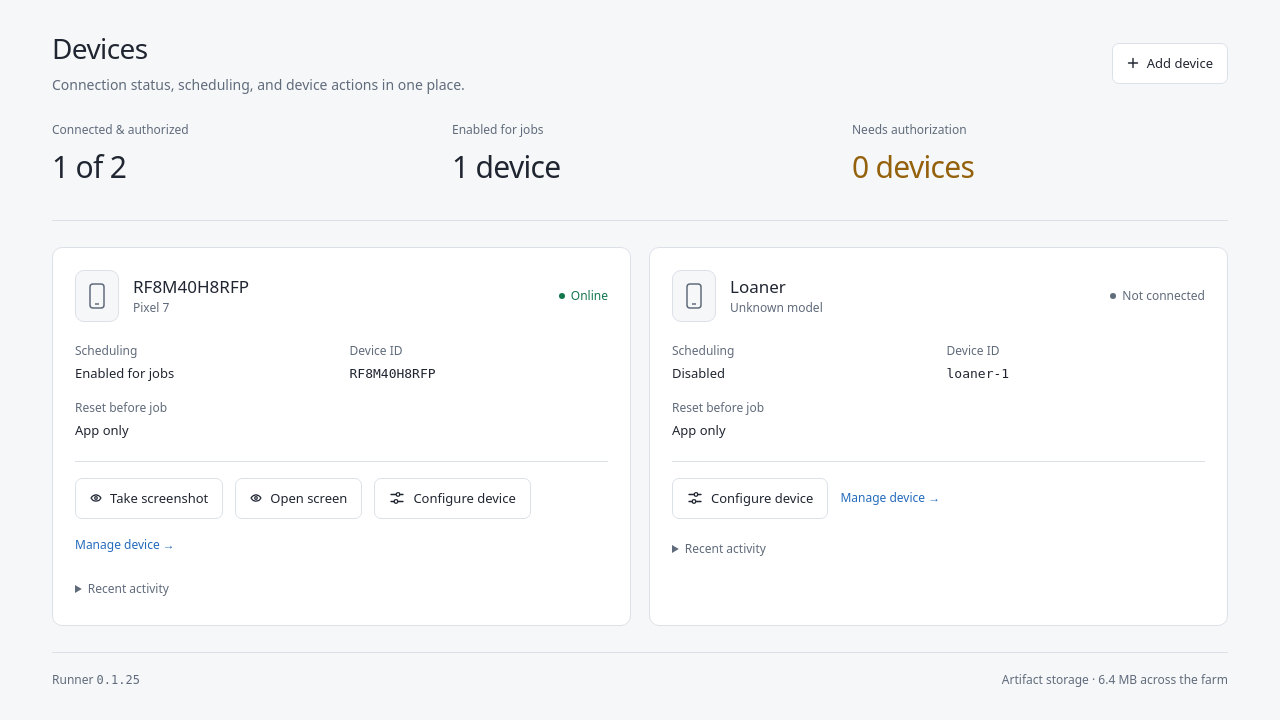
Test: a failed enable shows the server's error instead of silently doing nothing
Check: the heading "Loaner" is shown, box [730,275,786,298]
Click the heading "Manage device →" below "Open screen" at (125, 545), box [75,531,175,559]
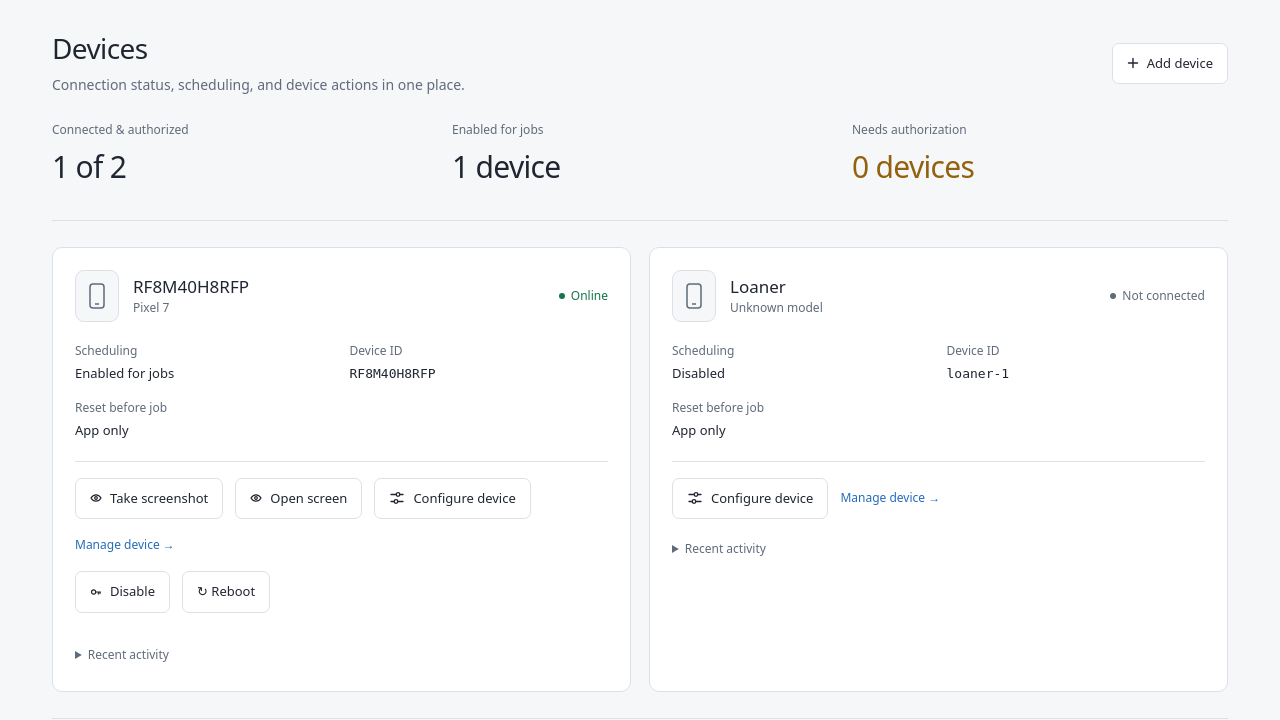
Click the heading "Manage device →" below "Disabled" at (890, 498), box [840,484,940,512]
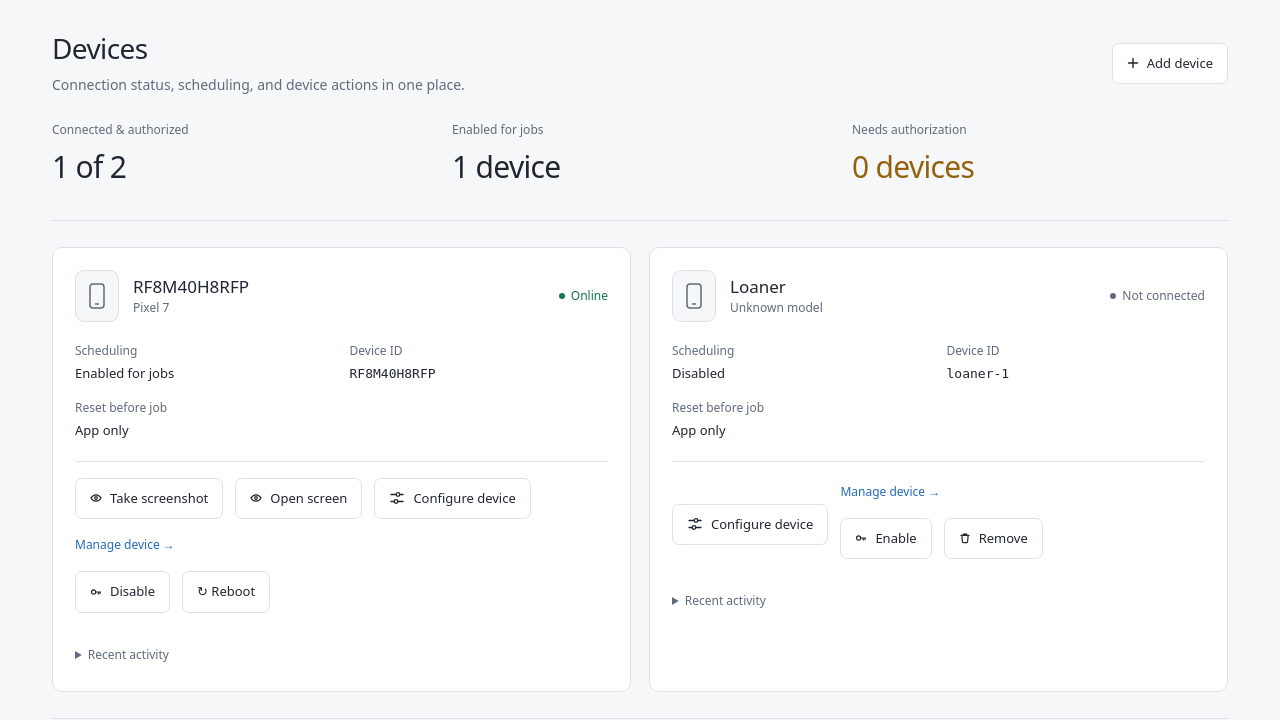
Click the button "Enable" at (886, 538), box [840,518,932,559]
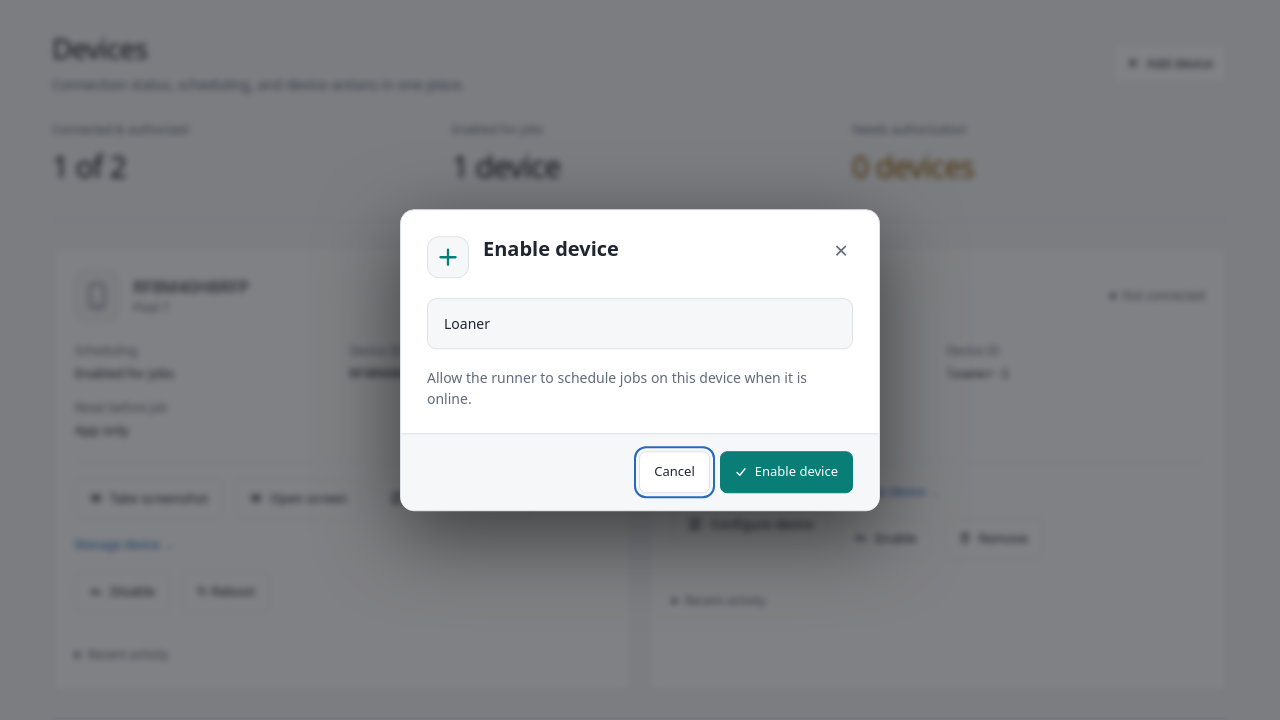
Click the button with class "ui-primary" at (786, 472), box [720,451,853,493]
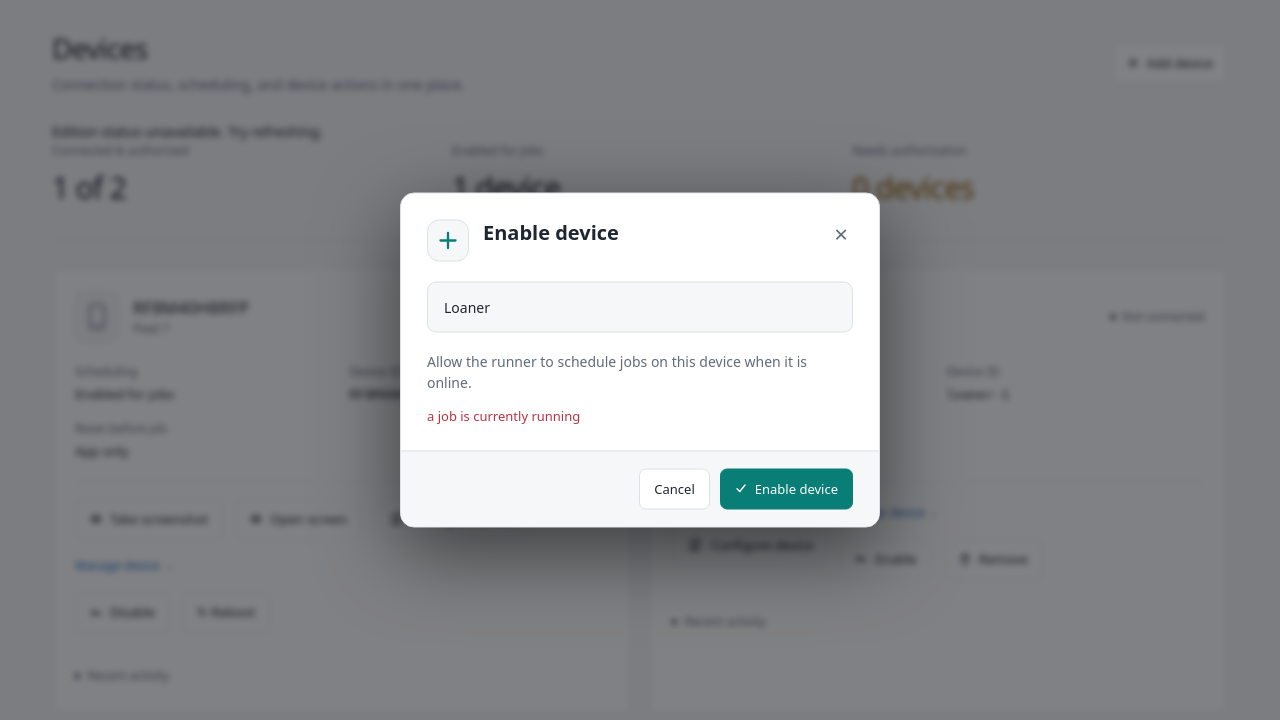
Check: the text "a job is currently running" is shown, box [427,406,580,424]
